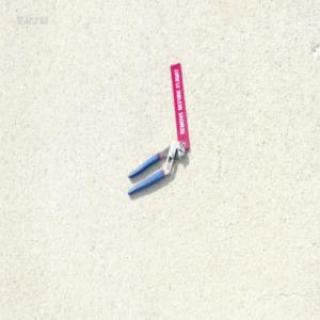LuggageTagtrack_idkeyframe: (170, 61, 190, 149)
Pliertrack_idkeyframe: (127, 137, 185, 195)
